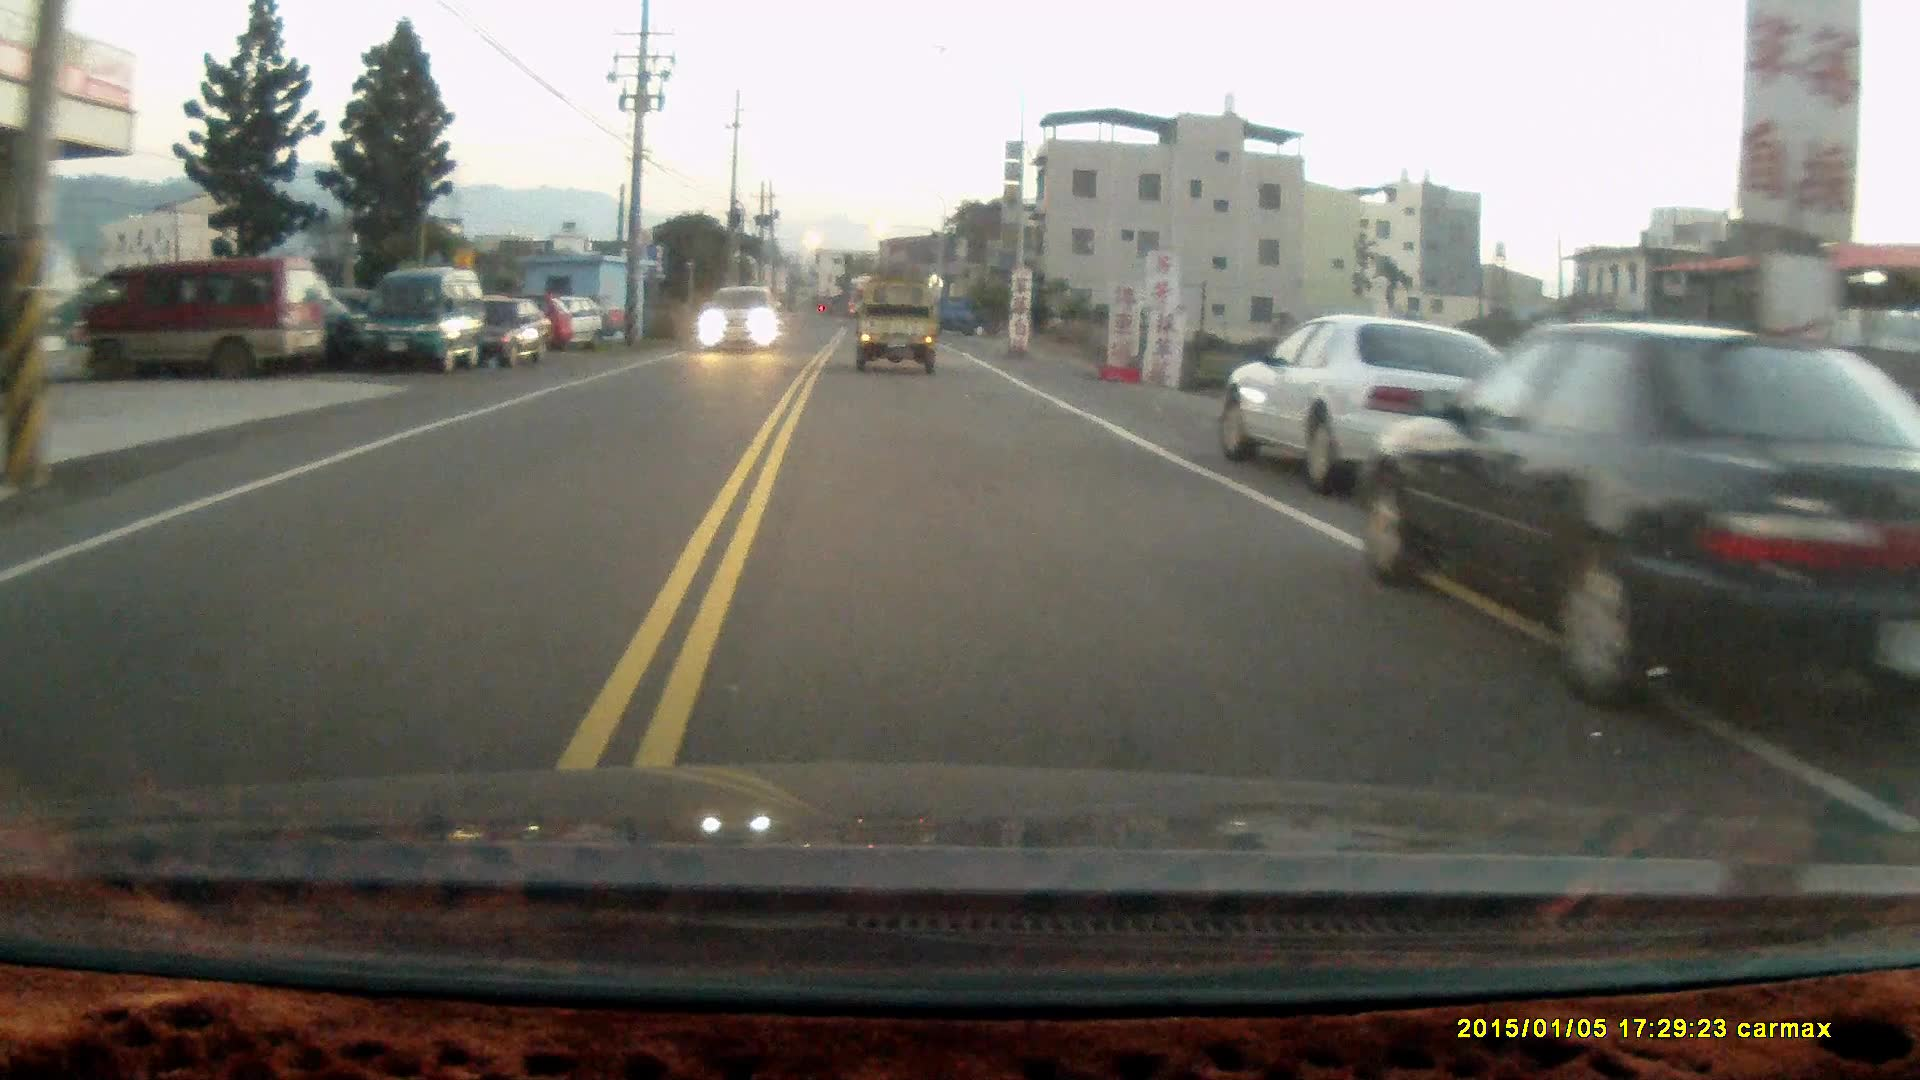vehicle: (1367, 322, 1886, 774), (1218, 316, 1516, 488), (53, 255, 320, 380), (0, 243, 96, 397), (359, 268, 489, 376), (858, 281, 939, 372), (475, 297, 553, 375), (696, 285, 781, 353)
